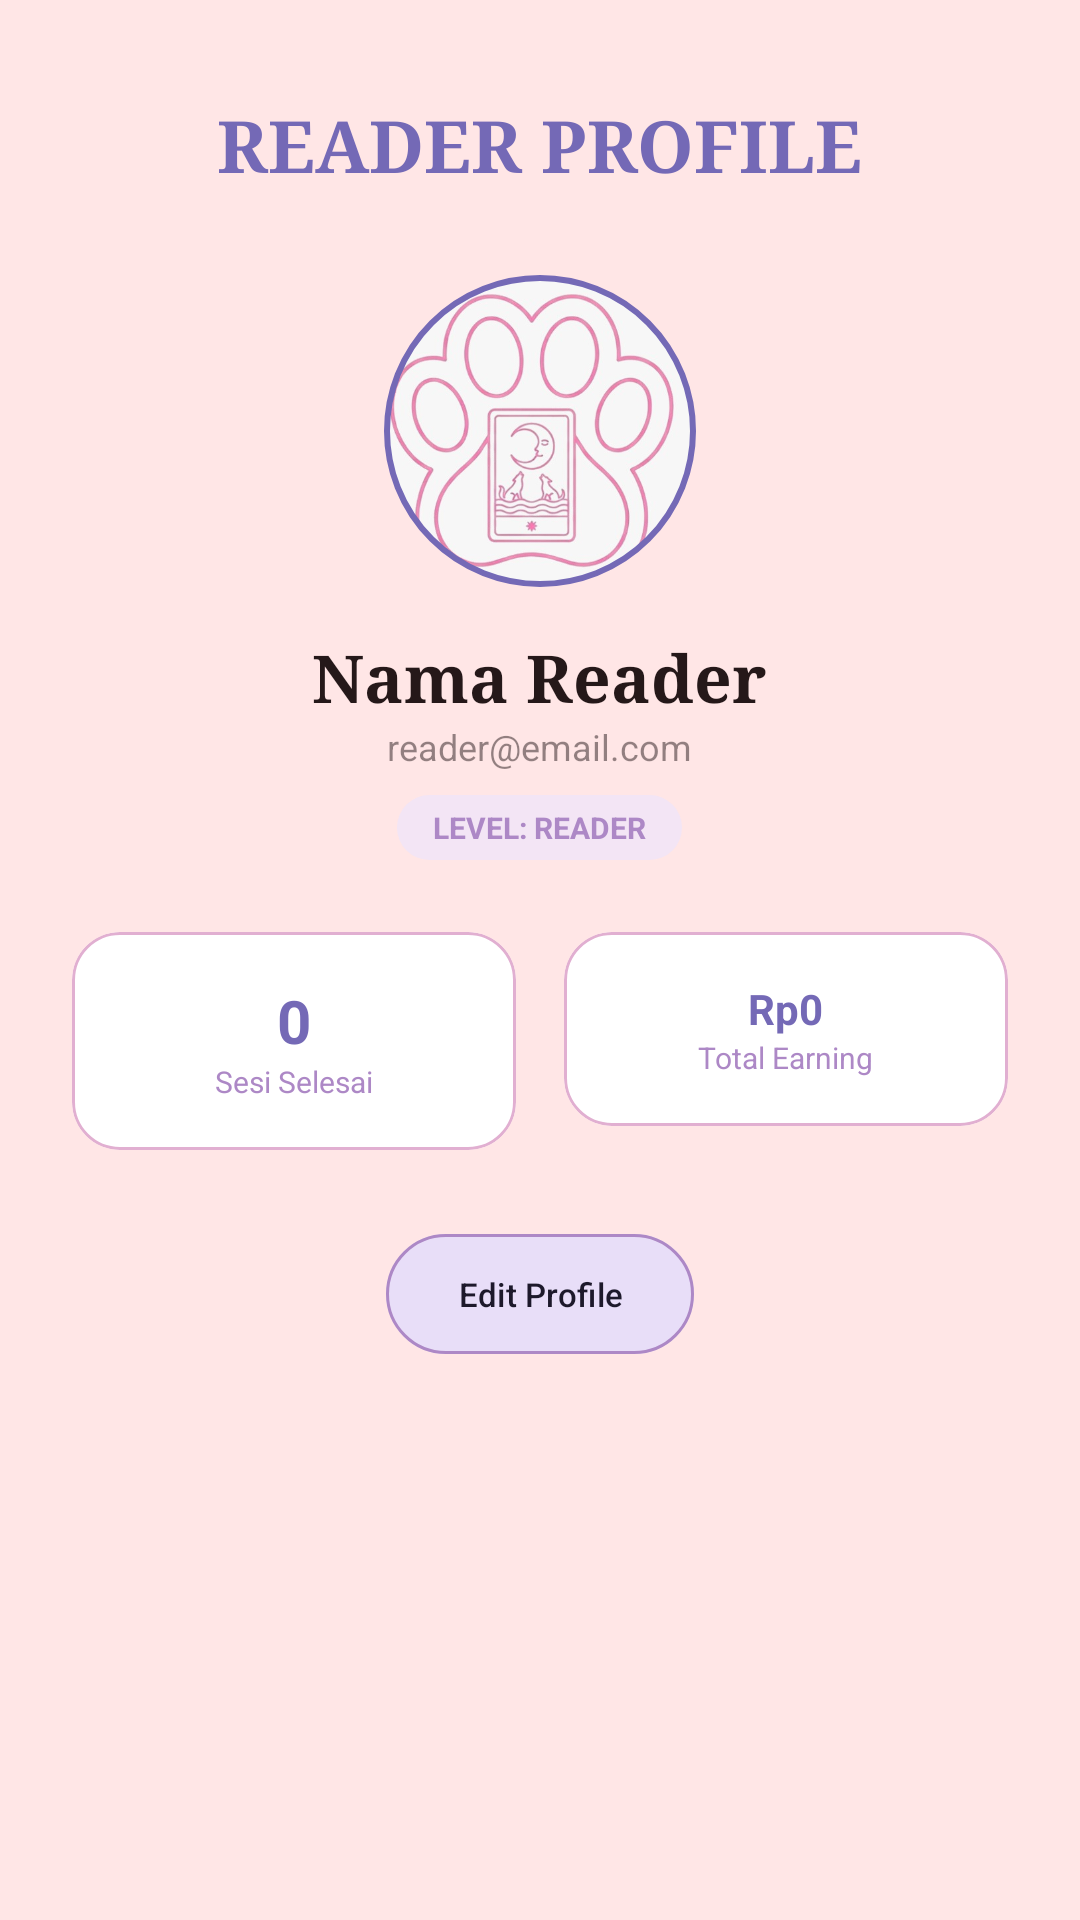

Point at icon controls on the screen. Image size 1080×1920, points as (x=x, y=y).
meow: (x=540, y=431)
